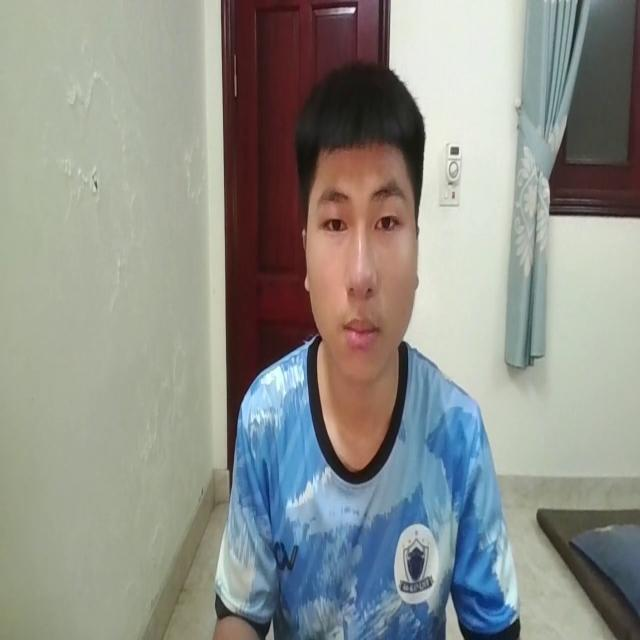student: (214, 59, 517, 640)
